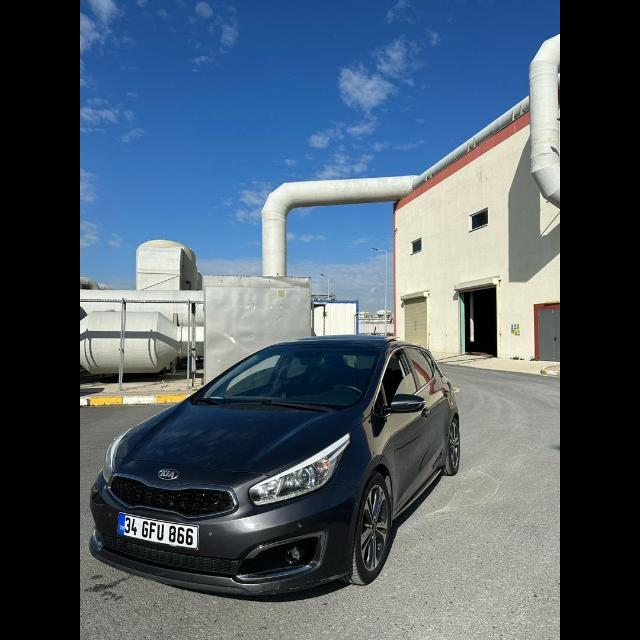Plaka: (118, 512, 198, 548)
